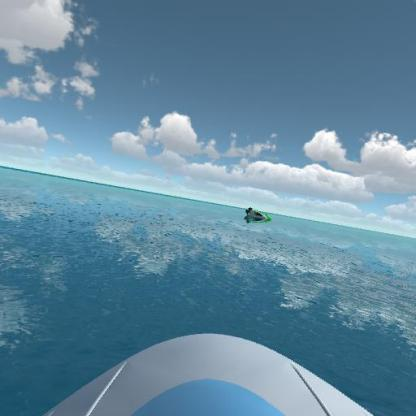usv0: (243, 205, 275, 225)
